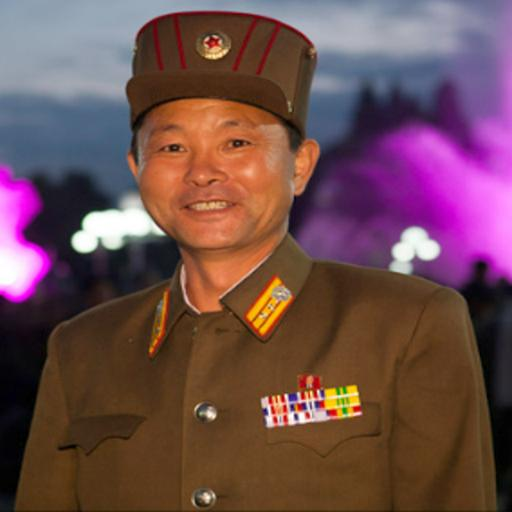north army: (41, 9, 512, 512)
